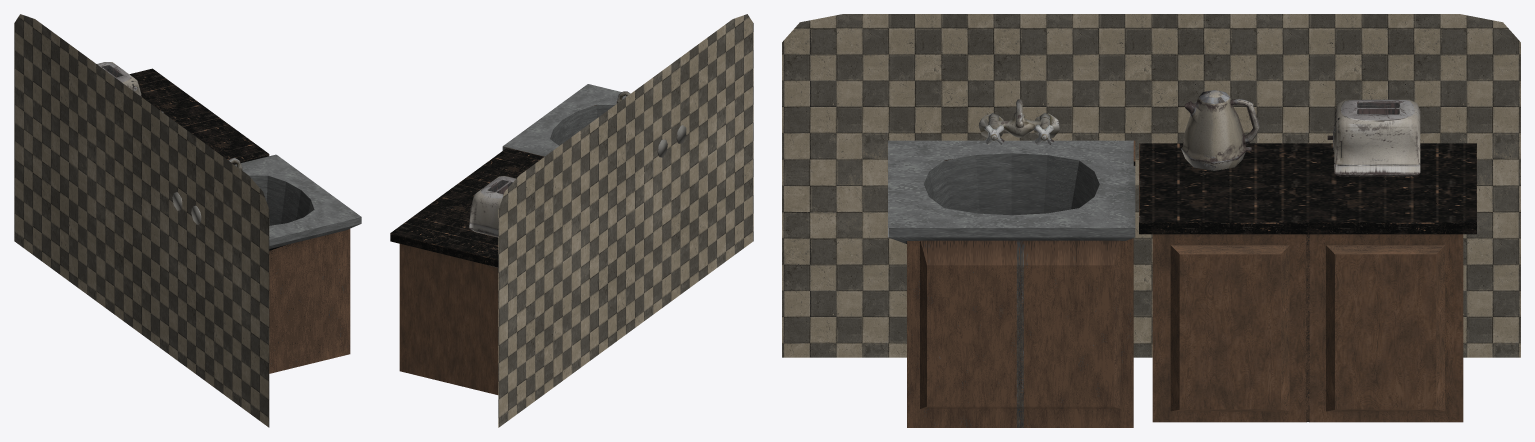
The model's file is Kitchern.fbx.
3 renders of one model, left to right at view 1: azimuth 30°, elevation 25°; view 2: azimuth 150°, elevation 25°; view 3: azimuth 270°, elevation 25°, orthographic. The views are drawn at different scales.
Visible parts, largest first — view 1: Kachle, Sink, Cabinet, toster, Sink_batery; view 2: Kachle, Cabinet, Sink, toster, Sink_batery; view 3: Kachle, Cabinet, Sink, toster, Konvice, Sink_batery.
Boxes of the visible parts, <box> form: Kachle: <box>14,14,269,427</box>; Sink: <box>234,154,361,373</box>; Cabinet: <box>129,68,269,164</box>; toster: <box>97,62,141,96</box>; Sink_batery: <box>172,157,242,224</box>; Kachle: <box>498,14,753,427</box>; Cabinet: <box>390,147,544,394</box>; Sink: <box>502,84,626,156</box>; toster: <box>469,176,515,237</box>; Sink_batery: <box>616,91,686,157</box>; Kachle: <box>782,14,1520,357</box>; Cabinet: <box>1139,143,1476,422</box>; Sink: <box>888,140,1135,427</box>; toster: <box>1327,99,1420,176</box>; Konvice: <box>1181,90,1259,170</box>; Sink_batery: <box>978,99,1059,144</box>.
Size of the model in its own units: 222 by 386 by 753.
